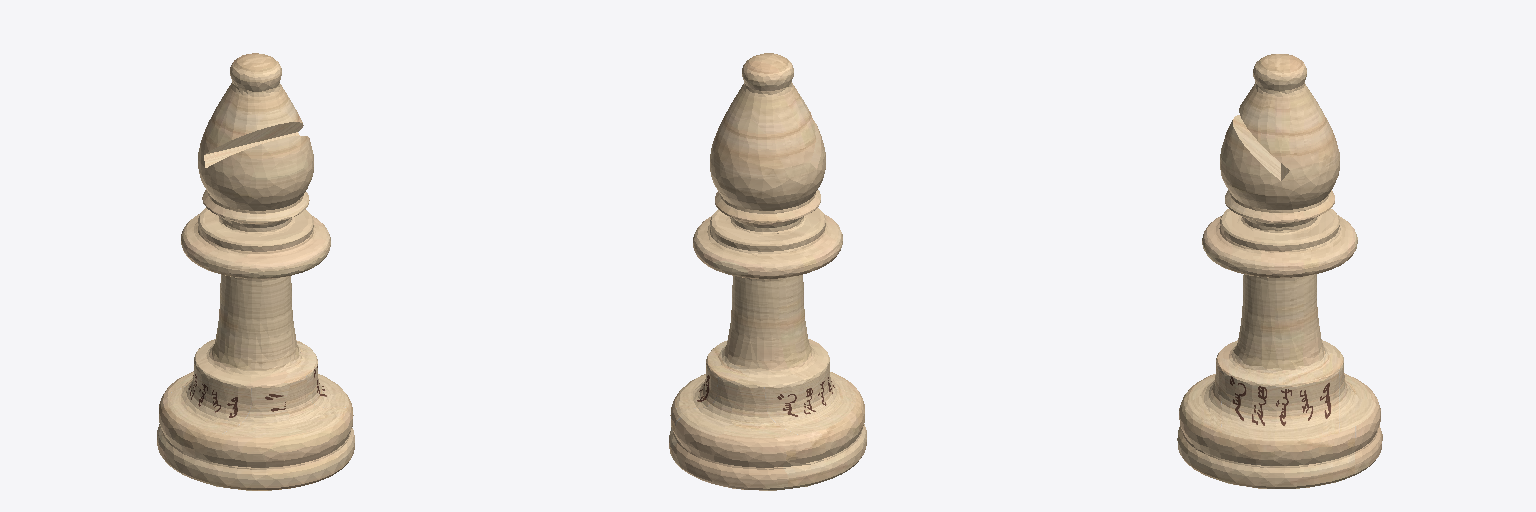
The picture shows the model from 3 angles: view 1: azimuth 30°, elevation 25°; view 2: azimuth 150°, elevation 25°; view 3: azimuth 270°, elevation 25°; orthographic projection.
Parts seen in each view (by area): view 1: Alfil; view 2: Alfil; view 3: Alfil.
Part boxes in pixels (x1,y1,x2,y2): Alfil: (157, 53, 354, 490); Alfil: (669, 53, 866, 490); Alfil: (1177, 54, 1382, 488).
Size of the model in its own units: 0.3682 by 0.8204 by 0.3858.
Materials: 2 (2 with a texture image).